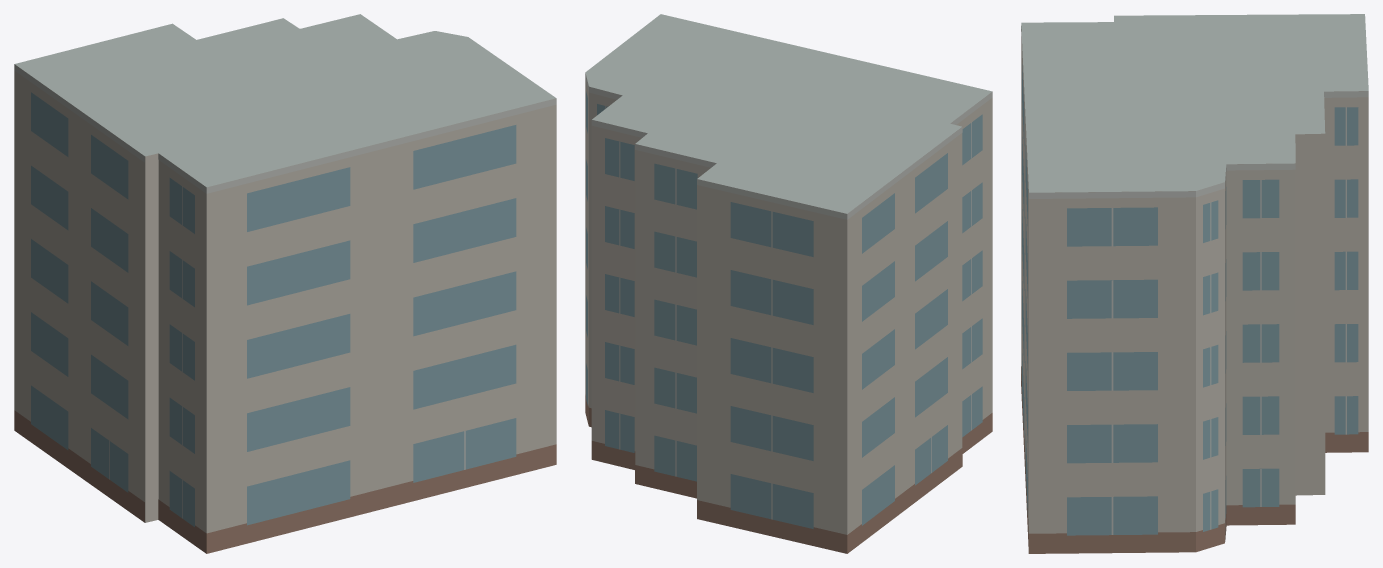
The model's file is survey-upis-32596393.glb.
3 views of the same model, side by side, from view 1: azimuth 30°, elevation 25°; view 2: azimuth 150°, elevation 25°; view 3: azimuth 270°, elevation 25° (orthographic). The views are drawn at different scales.
Visible parts, largest first — view 1: survey-upis-32596393.tmp; view 2: survey-upis-32596393.tmp; view 3: survey-upis-32596393.tmp.
Part boxes in pixels (<box>): survey-upis-32596393.tmp: <box>14,14,556,553</box>; survey-upis-32596393.tmp: <box>585,14,992,553</box>; survey-upis-32596393.tmp: <box>1021,14,1368,553</box>.
Bounding box in the file's own units: 14.76 × 13.9 × 12.14.
